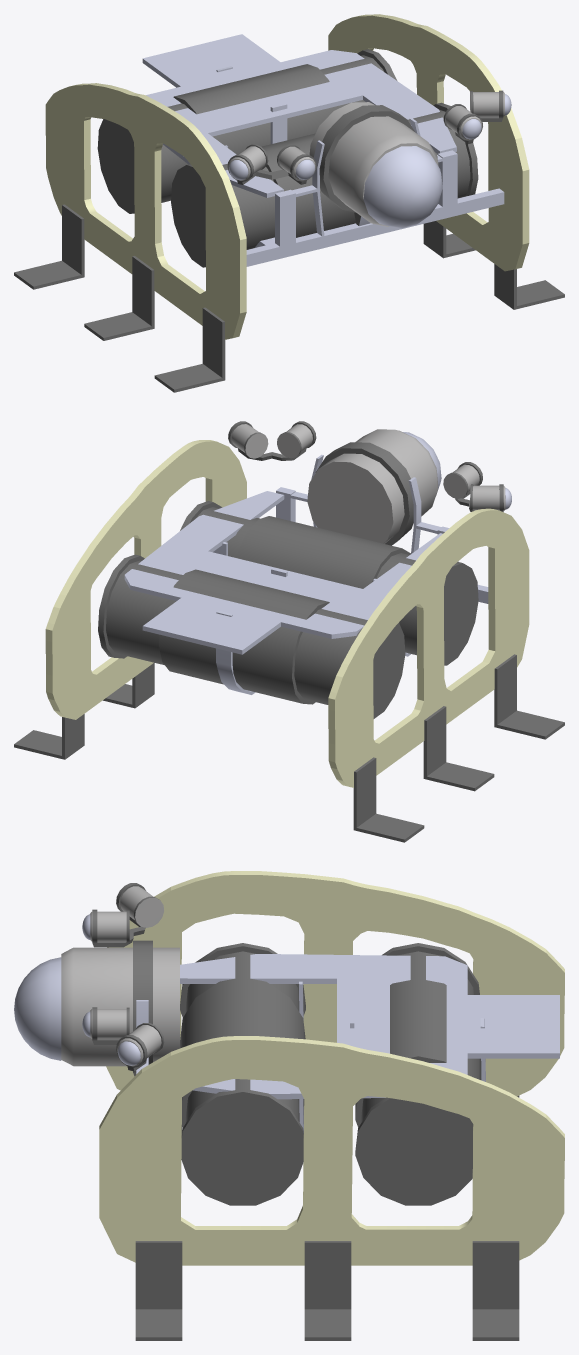
The picture shows the model from 3 angles, top to bottom: view 1: azimuth 30°, elevation 25°; view 2: azimuth 150°, elevation 25°; view 3: azimuth 270°, elevation 25°; orthographic projection. The views are drawn at different scales.
Visible parts, largest first — view 1: RobotBase RightChasis, RobotBase BottomSupport, LeftChasis RobotBase, RobotBase Camera, RobotBase BackCylinder, RobotBase FrontCylinder, RobotBase FrontCylinderSupport, RobotBase CoxaBase3, RobotBase CoxaBase5, RobotBase CoxaBase4, RobotBase SensorRight, RobotBase SensorLeft (+3 smaller); view 2: RobotBase RightChasis, RobotBase BackCylinder, RobotBase BottomSupport, LeftChasis RobotBase, RobotBase FrontCylinder, RobotBase Camera, RobotBase CoxaBase5, RobotBase CoxaBase4, RobotBase CoxaBase3, RobotBase SensorLeft, RobotBase SensorRight, RobotBase FrontCylinderSupport (+3 smaller); view 3: LeftChasis RobotBase, RobotBase RightChasis, RobotBase FrontCylinder, RobotBase BottomSupport, RobotBase BackCylinder, RobotBase Camera, RobotBase CoxaBase2, RobotBase CoxaBase1, RobotBase CoxaBase0, RobotBase SensorRight, RobotBase SensorLeft, RobotBase FrontCylinderSupport.
Part boxes in pixels (x1,y1,x2,y2): RobotBase RightChasis: [45, 83, 246, 339]; RobotBase BottomSupport: [142, 34, 456, 197]; LeftChasis RobotBase: [328, 14, 529, 271]; RobotBase Camera: [309, 102, 442, 228]; RobotBase BackCylinder: [97, 49, 397, 213]; RobotBase FrontCylinder: [171, 102, 478, 267]; RobotBase FrontCylinderSupport: [225, 118, 504, 266]; RobotBase CoxaBase3: [154, 307, 225, 392]; RobotBase CoxaBase5: [14, 204, 84, 289]; RobotBase CoxaBase4: [84, 256, 154, 340]; RobotBase SensorRight: [227, 144, 316, 184]; RobotBase SensorLeft: [443, 90, 511, 143]; RobotBase RightChasis: [328, 508, 529, 787]; RobotBase BackCylinder: [98, 554, 405, 718]; RobotBase BottomSupport: [124, 491, 442, 654]; LeftChasis RobotBase: [45, 440, 246, 719]; RobotBase FrontCylinder: [180, 501, 478, 665]; RobotBase Camera: [307, 429, 441, 545]; RobotBase CoxaBase5: [353, 757, 424, 842]; RobotBase CoxaBase4: [423, 706, 494, 791]; RobotBase CoxaBase3: [494, 654, 564, 739]; RobotBase SensorLeft: [228, 421, 316, 460]; RobotBase SensorRight: [443, 462, 511, 511]; RobotBase FrontCylinderSupport: [213, 454, 488, 656]; LeftChasis RobotBase: [99, 1036, 564, 1265]; RobotBase RightChasis: [106, 871, 564, 1096]; RobotBase FrontCylinder: [180, 943, 305, 1205]; RobotBase BottomSupport: [180, 954, 559, 1099]; RobotBase BackCylinder: [355, 943, 481, 1205]; RobotBase Camera: [14, 940, 179, 1076]; RobotBase CoxaBase2: [472, 1241, 519, 1340]; RobotBase CoxaBase1: [304, 1241, 351, 1340]; RobotBase CoxaBase0: [135, 1241, 182, 1340]; RobotBase SensorRight: [82, 883, 163, 947]; RobotBase SensorLeft: [82, 1007, 164, 1071]; RobotBase FrontCylinderSupport: [136, 981, 303, 1132].
Size of the model in its own units: 3.6 by 2.06 by 3.67.
